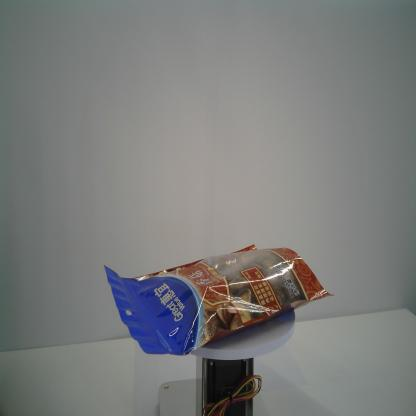Dried Food: (100, 243, 335, 355)
